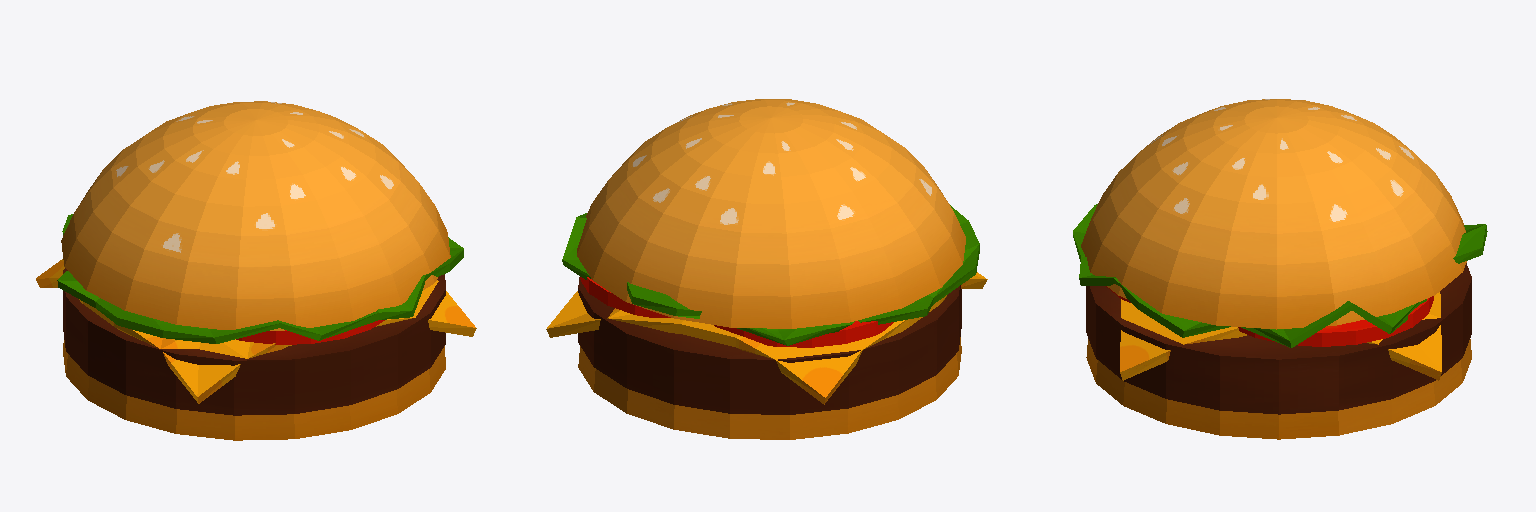
The picture shows the model from 3 angles: view 1: azimuth 30°, elevation 25°; view 2: azimuth 150°, elevation 25°; view 3: azimuth 270°, elevation 25°; orthographic projection.
Visible parts, largest first — view 1: Burger2:polySurface16; view 2: Burger2:polySurface16; view 3: Burger2:polySurface16.
Boxes of the visible parts, x1,y1,x2,y2 form: Burger2:polySurface16: [36, 101, 476, 440]; Burger2:polySurface16: [546, 99, 987, 439]; Burger2:polySurface16: [1073, 99, 1487, 439].
Bounding box in the file's own units: 1.61 × 1.18 × 1.61.
8 materials, 5 textured.